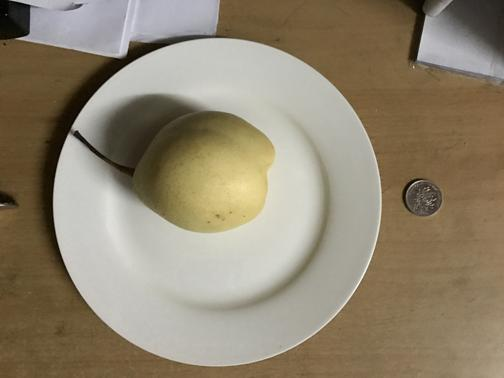coin: (404, 178, 442, 217)
pear: (133, 112, 273, 233)
